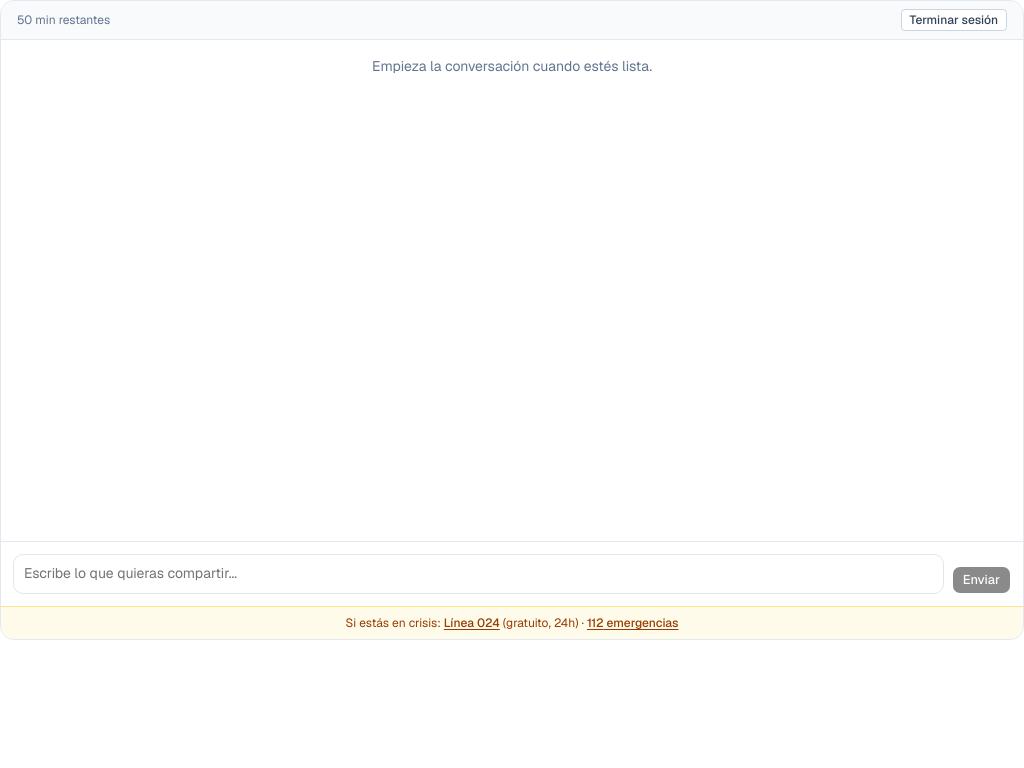
Test case: normal send completion survives an in-flight manual snapshot and clears its draft
The image size is (1024, 768).
Type "Mensaje normal pendiente" into the text box at (478, 574), box 13,554 -> 944,594
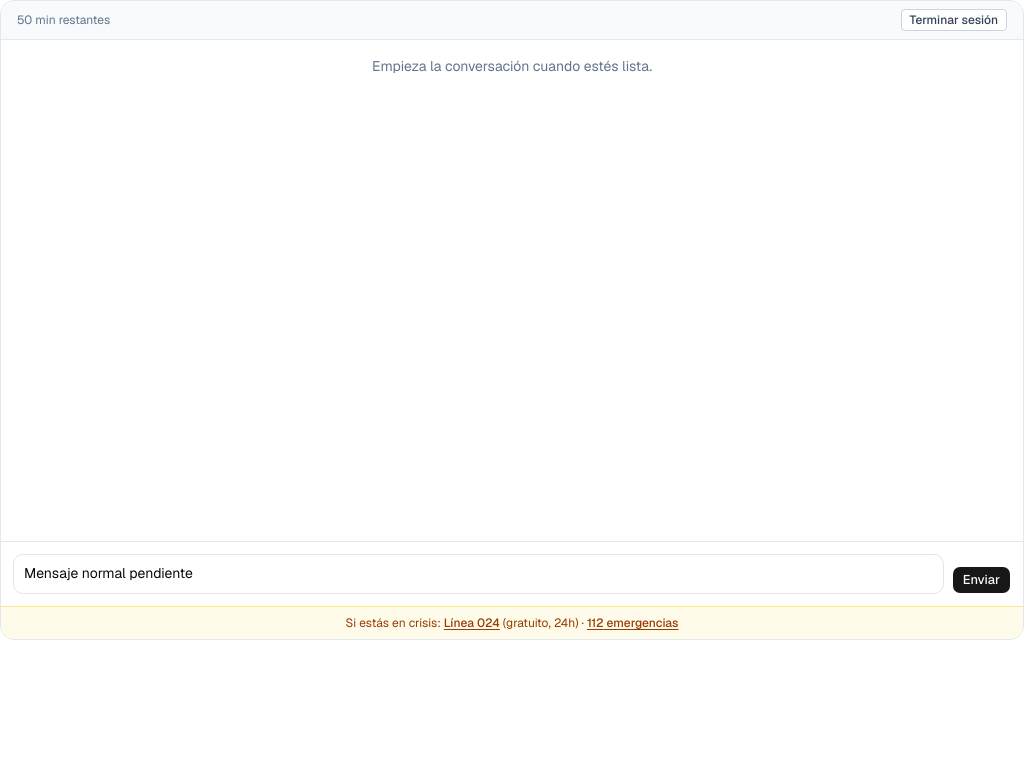
Click the button "Enviar" at (981, 580), box 952,566 -> 1011,594
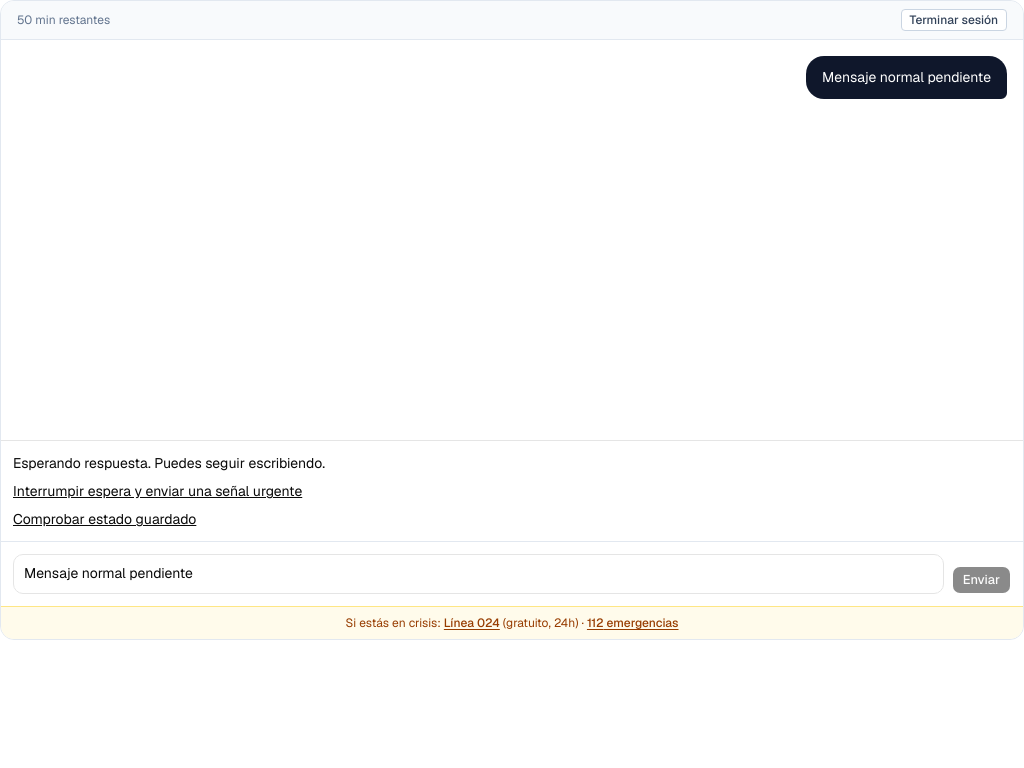
Click the button "Comprobar estado guardado" at (105, 519), box 13,509 -> 196,529
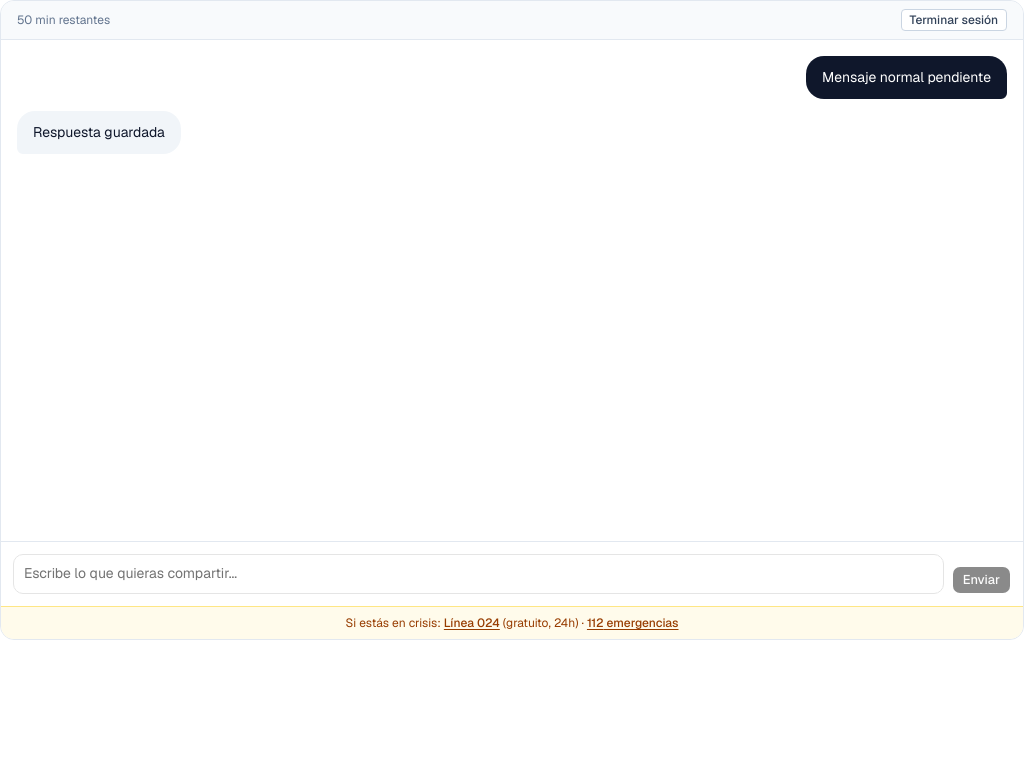
Expected: the text "Mensaje normal pendiente" is shown, 822,68 -> 991,86
Expected: the text box is empty, 13,554 -> 944,594
Expected: the text "Respuesta guardada" is shown, 33,123 -> 165,141
